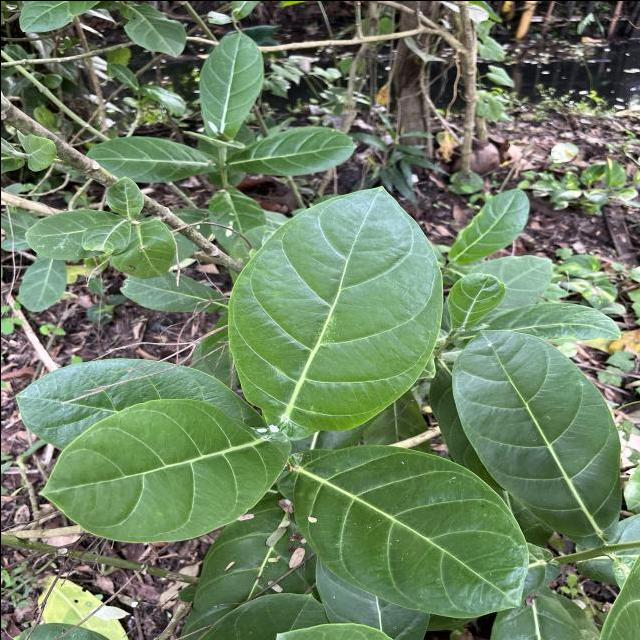Calotropis gigantea: (224, 182, 446, 432), (275, 442, 530, 620), (450, 327, 623, 549), (37, 395, 293, 543), (14, 357, 268, 450), (197, 31, 264, 140), (224, 125, 357, 177), (84, 134, 220, 183), (446, 187, 530, 266)
